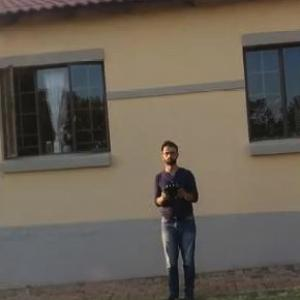follow: (151, 135, 206, 299)
